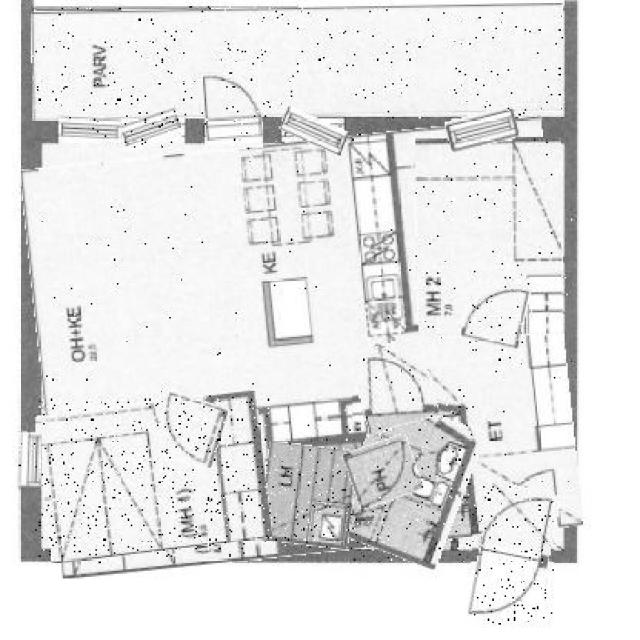door: (472, 486, 554, 628), (352, 342, 434, 431), (465, 271, 529, 351), (345, 439, 420, 506), (157, 397, 225, 465), (205, 71, 263, 149)
window: (446, 109, 519, 149), (280, 112, 346, 150), (123, 111, 185, 149), (16, 432, 42, 490), (58, 117, 120, 137)
zone: (31, 129, 572, 565), (32, 6, 563, 119), (38, 397, 270, 557), (415, 138, 563, 336), (343, 402, 475, 563), (261, 443, 357, 548)
